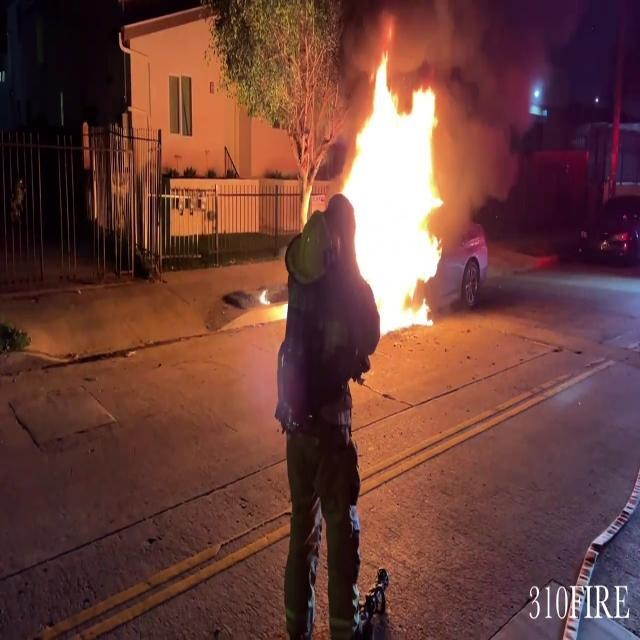Fire: (341, 41, 454, 336)
Smoke: (429, 0, 538, 206)
